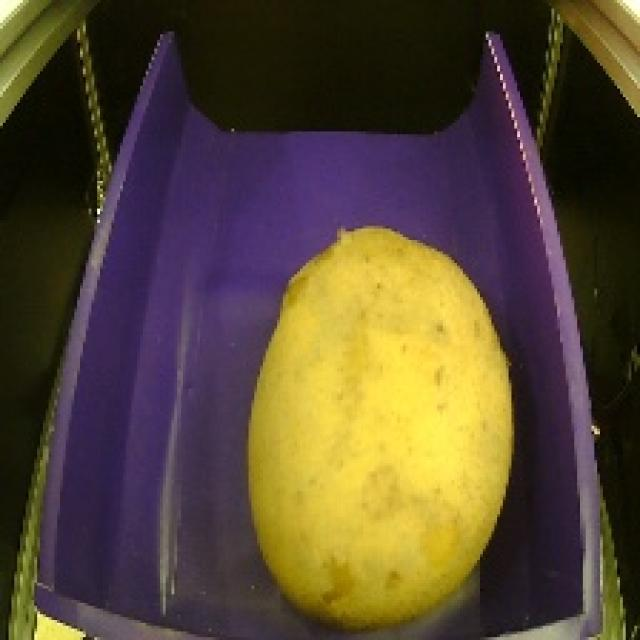full_potato: (232, 207, 526, 634)
